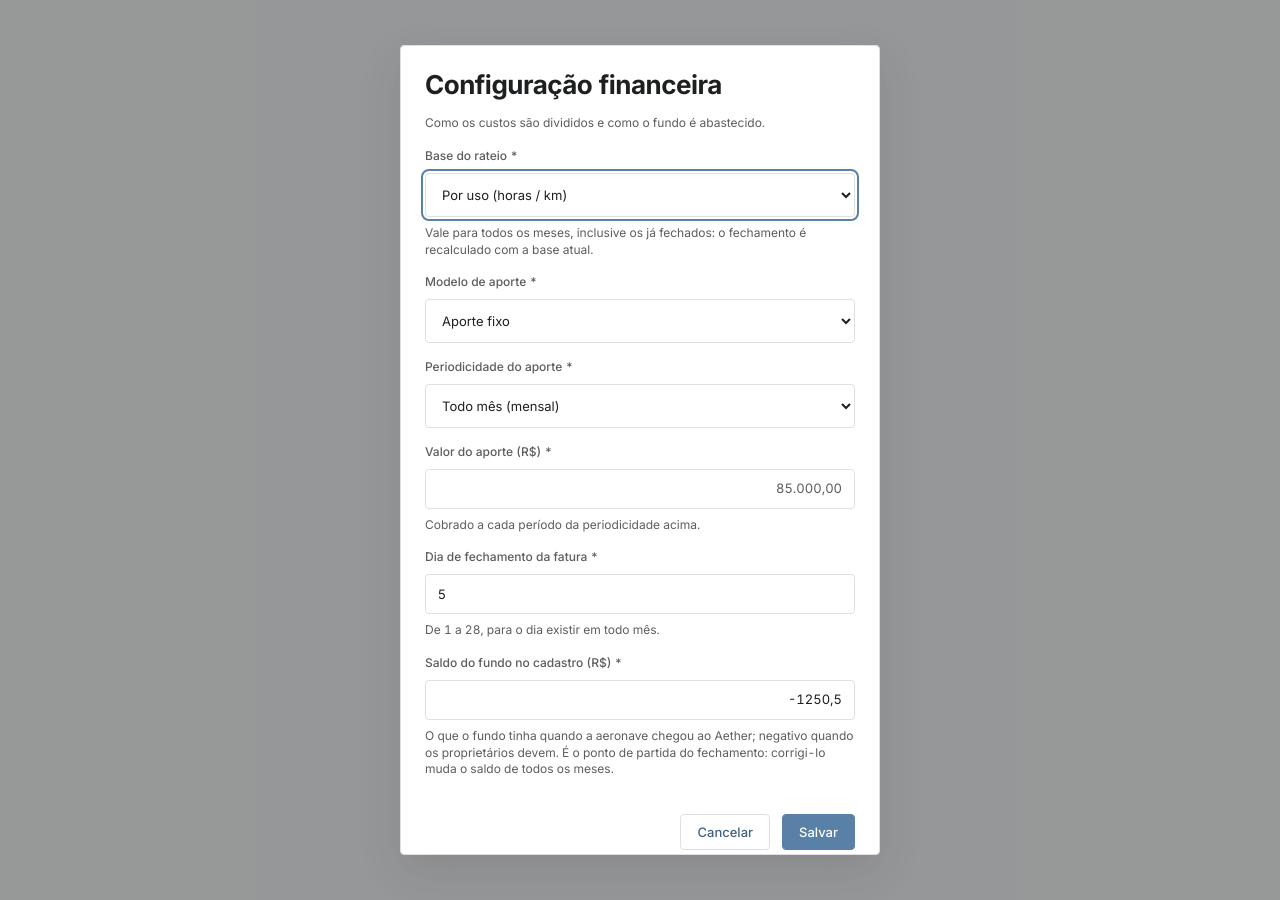
Test: PainelFinanceiro › o aporte fixo sem valor é falta no campo, com foco e resumo, sem envio
Expected: the field labelled "Valor do aporte (R$)" is empty, [425,469,855,509]
Click the button "Salvar". click: (818, 832)
box: [782,814,855,850]
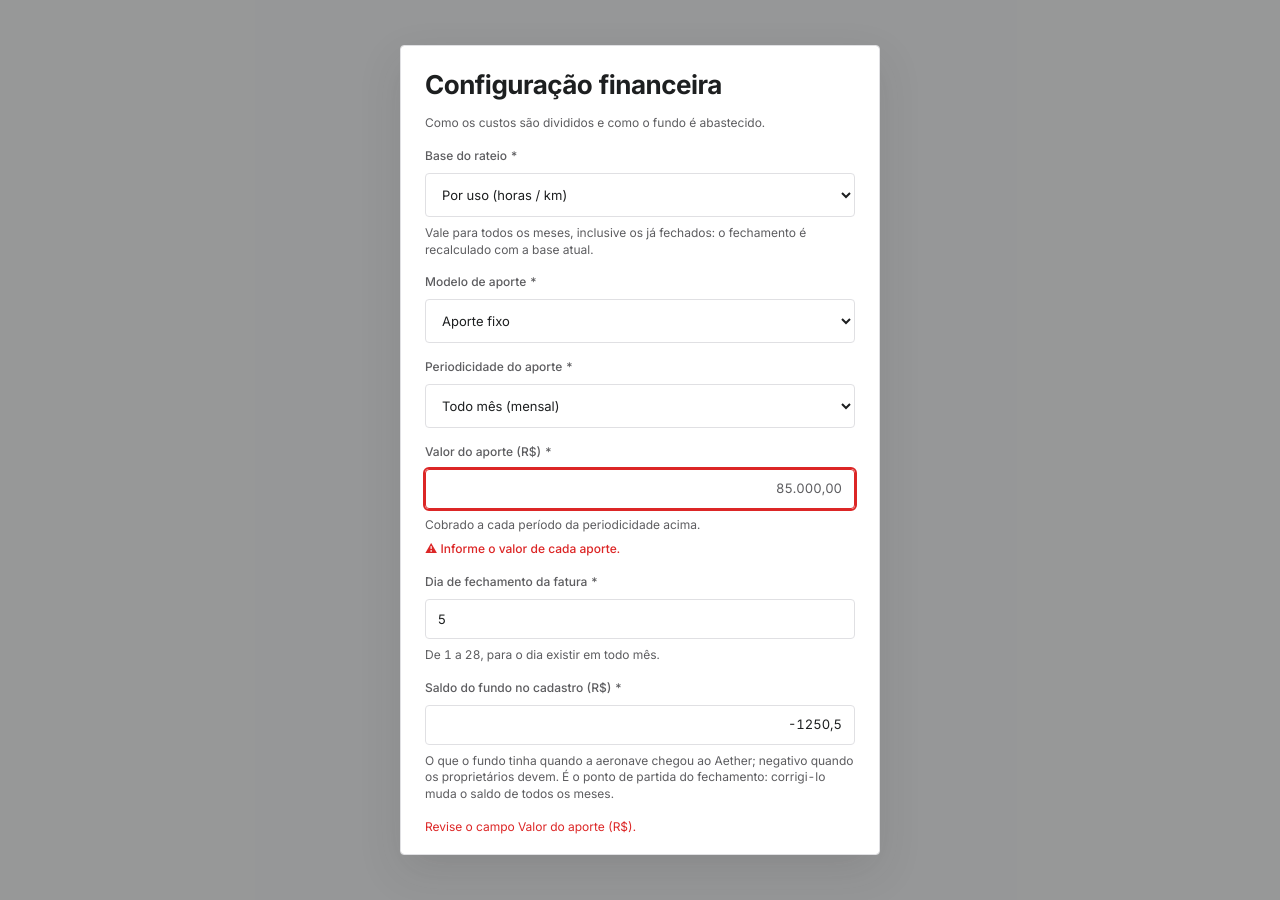
Expected: the message reads "Revise o campo Valor do aporte (R$).", [425,819,636,834]
